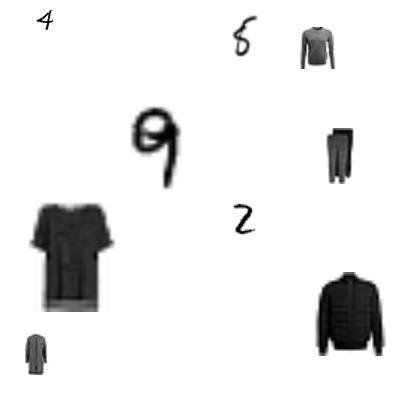2: (222, 198, 264, 240)
4: (32, 5, 60, 33)
8: (213, 8, 269, 64)
9: (100, 80, 212, 192)
Coat: (307, 272, 391, 356)
Dress: (15, 333, 57, 375)
Pullover: (296, 27, 338, 69)
Shirt: (14, 200, 126, 312)
Trouser: (311, 128, 367, 184)
